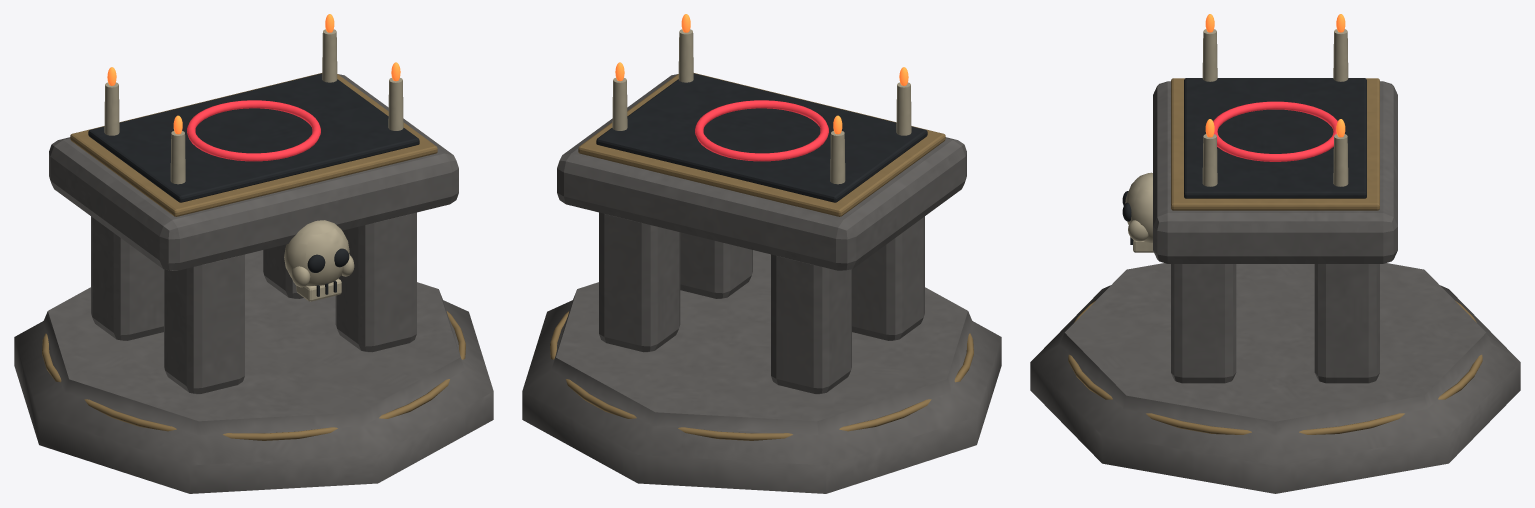
Rendered from altar.glb.
3 views of the same model, side by side, from view 1: azimuth 30°, elevation 25°; view 2: azimuth 150°, elevation 25°; view 3: azimuth 270°, elevation 25° (orthographic).
Parts seen in each view (by area): view 1: altar; view 2: altar; view 3: altar.
Boxes of the visible parts, x1,y1,x2,y2 form: altar: [14, 14, 493, 493]; altar: [522, 14, 1001, 493]; altar: [1030, 14, 1520, 493].
Size of the model in its own units: 1.5 by 1.09 by 1.5.
Materials: 6 (4 with a texture image).
